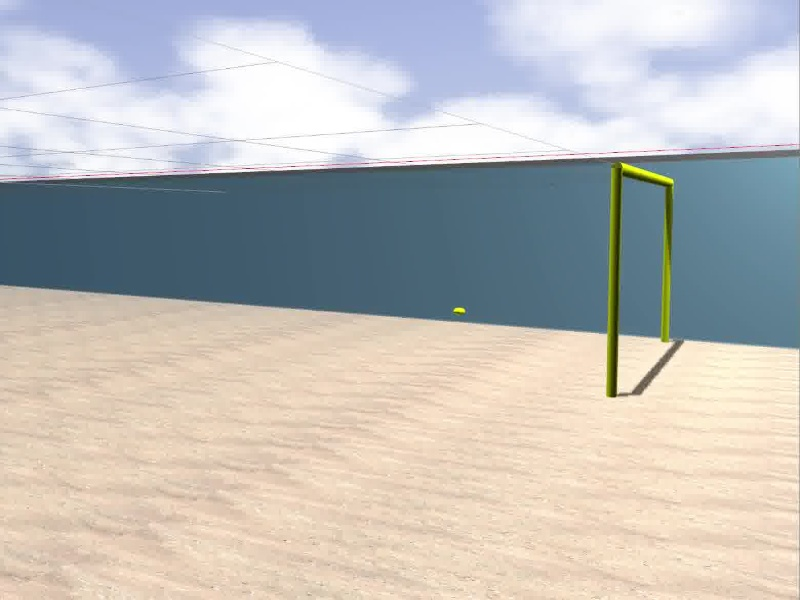gate: (607, 163, 675, 403)
